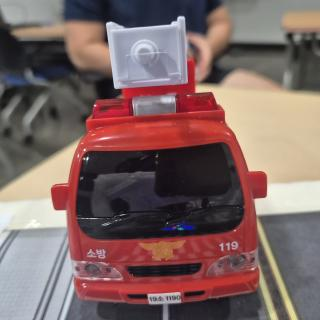Fire_truck: (51, 86, 267, 306)
